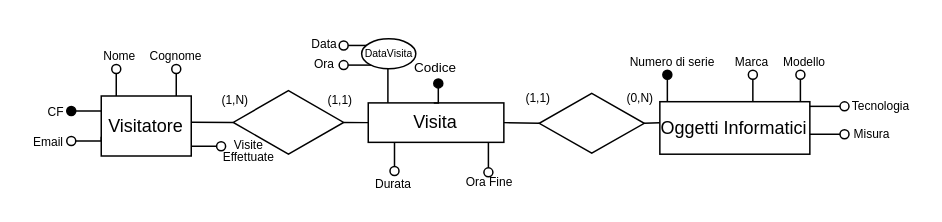
The diagram is 942 pixels wide and 222 high, and some of its shapes have lost their labels. The shapes that lost their labels are listed below. From the top down, each one's box as (x1, y1, x2, y2) in pixels, then its label:
(232, 89, 344, 154): Sostiene
(538, 92, 644, 153): Utilizza
